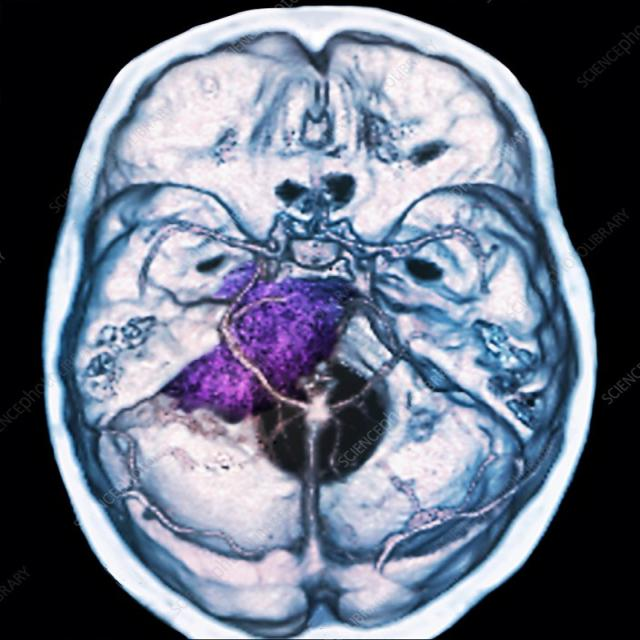Tumor: (173, 272, 345, 418)
